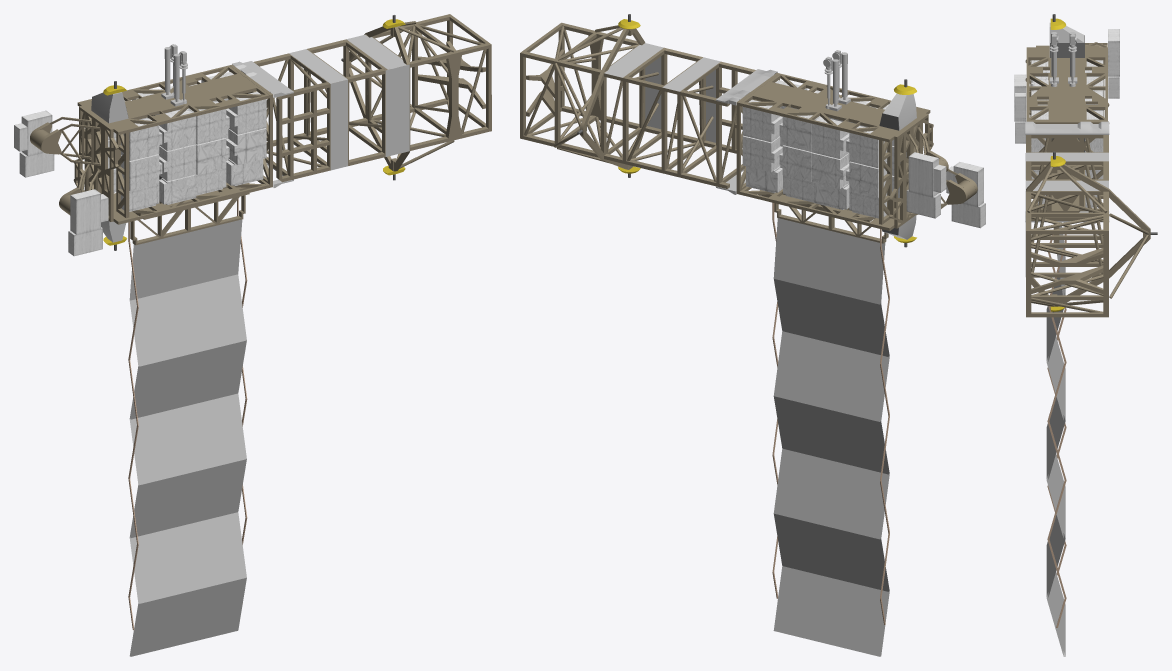
The picture shows the model from 3 angles, left to right: view 1: azimuth 30°, elevation 25°; view 2: azimuth 150°, elevation 25°; view 3: azimuth 270°, elevation 25°; orthographic projection.
Visible parts, largest first — view 1: s6; view 2: s6; view 3: s6.
Boxes of the visible parts, x1,y1,x2,y2 form: s6: (14, 14, 491, 656); s6: (520, 14, 985, 656); s6: (1014, 14, 1157, 656).
Bounding box in the file's own units: 13.61 × 18 × 3.94.
Materials: 7 (3 with a texture image).
